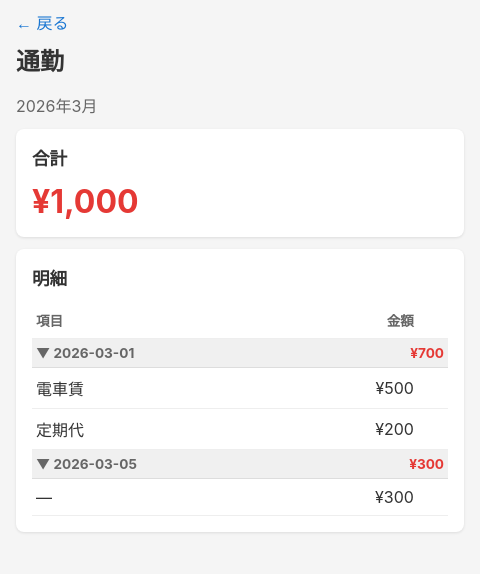
TagDetails › 保存ボタンで更新APIを呼び明細を更新する
Step 1. Click the text "電車賃" → [137, 388], box [32,368,242,408]
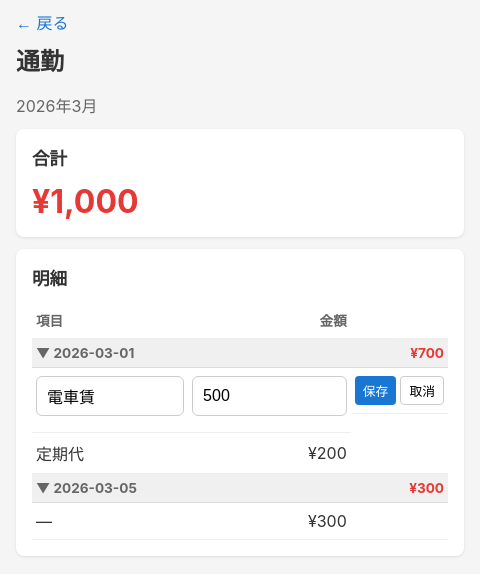
Step 2. Replace the text in the field showing "電車賃" with "バス代" → [110, 396], box [36,376,184,416]
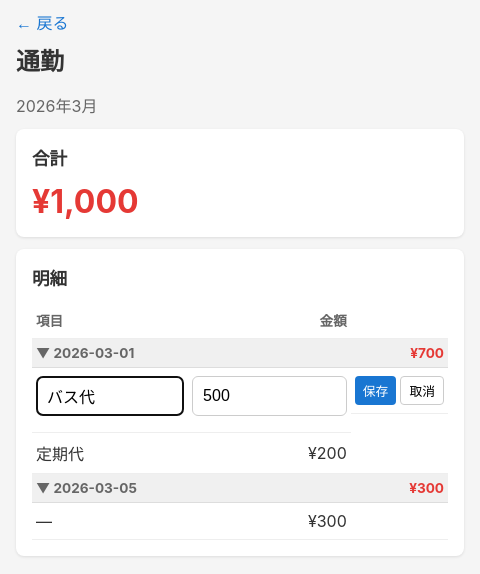
Step 3. Replace the text in the number field showing "500" with "600" → [269, 396], box [192,376,347,416]
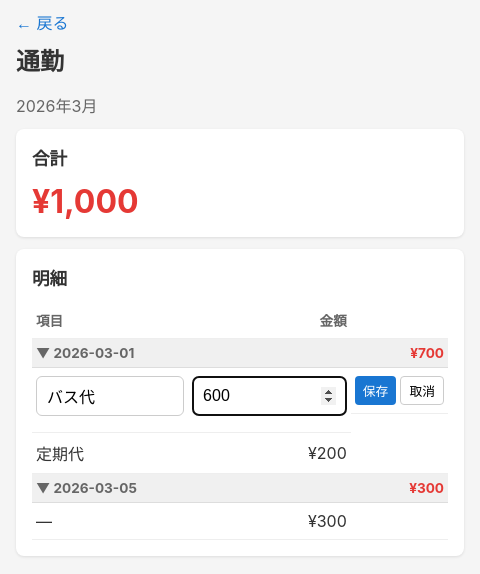
Step 4. Click the button "保存" → [376, 390], box [355,376,396,405]
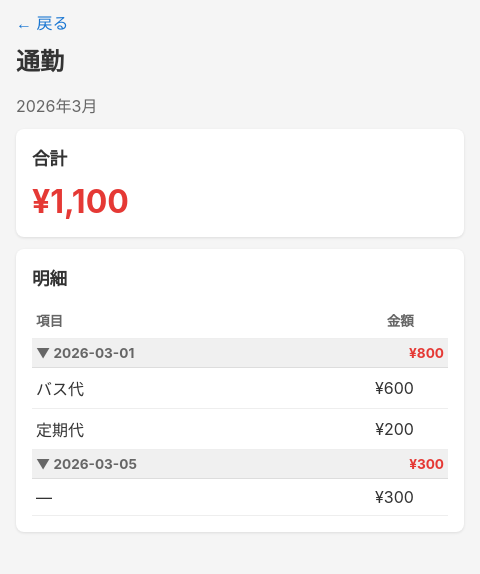
Result: the text "バス代" is shown at [32,368,242,408]
Result: the text "¥600" is shown at [242,368,418,408]
